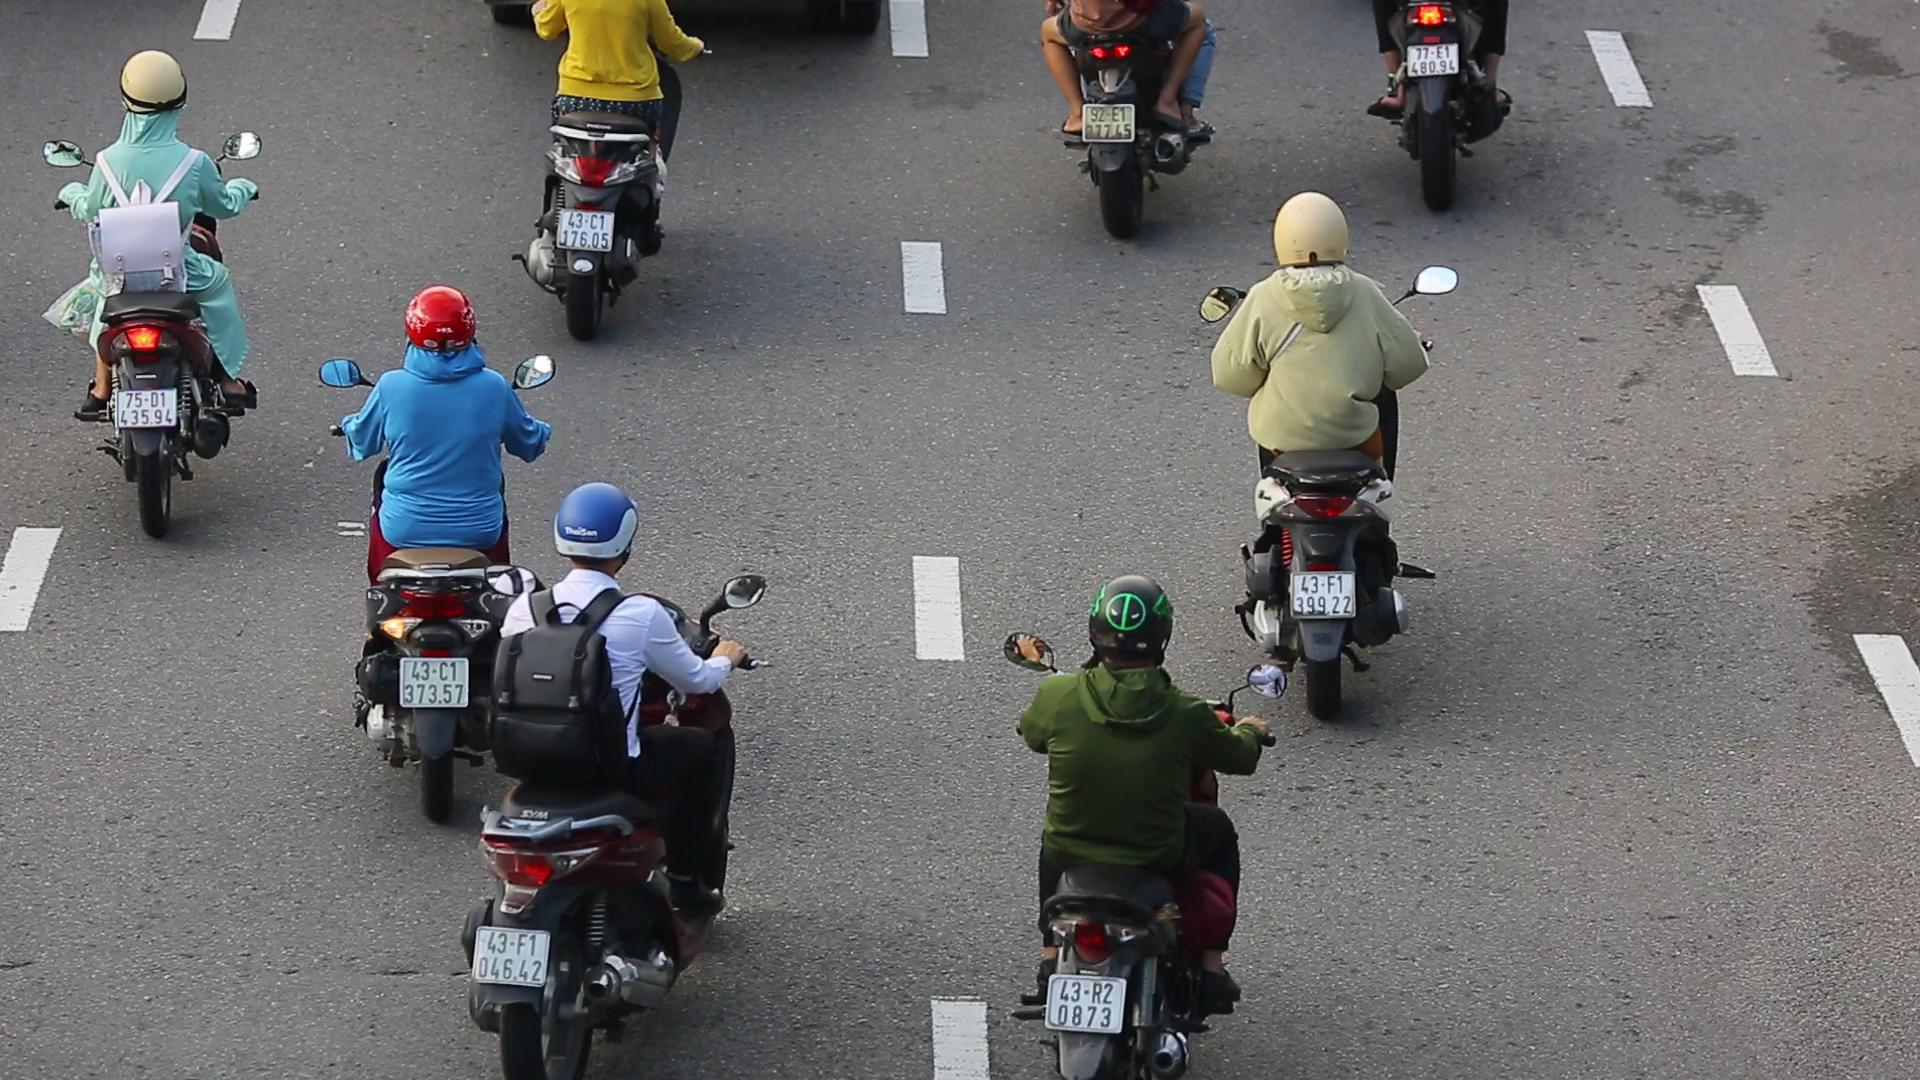motobike: (463, 481, 790, 1072), (1204, 175, 1482, 732), (989, 567, 1287, 1080), (309, 285, 549, 829), (34, 46, 266, 546)
